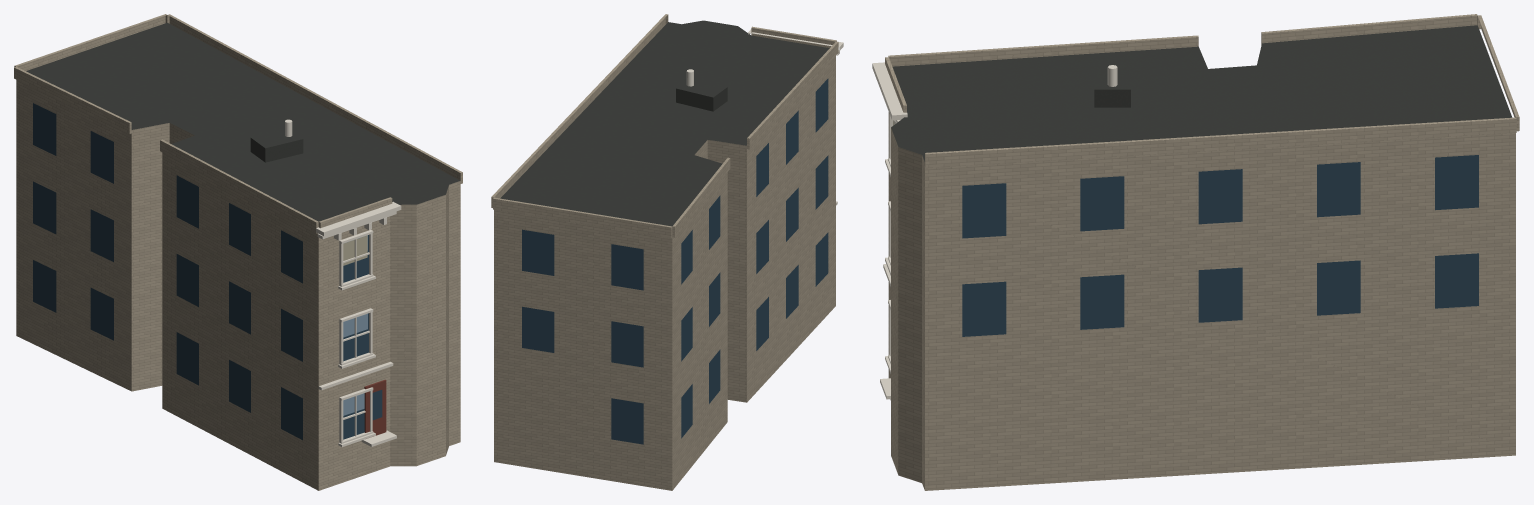
3 views of the same model, side by side, from view 1: azimuth 30°, elevation 25°; view 2: azimuth 150°, elevation 25°; view 3: azimuth 270°, elevation 25° (orthographic). The views are drawn at different scales.
Parts seen in each view (by area): view 1: Footprint 0 / surface 2, Footprint 0 / surface 1, Inset glazing, Facade bay volumes, Cornices and window frames, Storefronts and doors, Sky reflection panels, Inferred rooftop service enclosure / surface 5, Inferred rooftop service enclosure / surface 3, Interior blind variation; view 2: Footprint 0 / surface 2, Footprint 0 / surface 1, Inset glazing, Facade bay volumes, Inferred rooftop service enclosure / surface 6, Inferred rooftop service enclosure / surface 3; view 3: Footprint 0 / surface 2, Footprint 0 / surface 1, Inset glazing, Facade bay volumes, Cornices and window frames, Inferred rooftop service enclosure / surface 3, Inferred rooftop service enclosure / surface 1.
Boxes of the visible parts, bbox=[...] form: Footprint 0 / surface 2: bbox=[16, 80, 460, 490]; Footprint 0 / surface 1: bbox=[26, 22, 460, 221]; Inset glazing: bbox=[33, 103, 382, 440]; Facade bay volumes: bbox=[14, 14, 462, 233]; Cornices and window frames: bbox=[316, 201, 401, 446]; Storefronts and doors: bbox=[364, 379, 386, 436]; Sky reflection panels: bbox=[343, 235, 367, 415]; Inferred rooftop service enclosure / surface 5: bbox=[265, 139, 303, 162]; Inferred rooftop service enclosure / surface 3: bbox=[251, 129, 302, 148]; Interior blind variation: bbox=[343, 235, 367, 265]; Footprint 0 / surface 2: bbox=[494, 56, 835, 490]; Footprint 0 / surface 1: bbox=[500, 20, 829, 226]; Inset glazing: bbox=[522, 78, 828, 444]; Facade bay volumes: bbox=[491, 14, 838, 238]; Inferred rooftop service enclosure / surface 6: bbox=[676, 88, 713, 111]; Inferred rooftop service enclosure / surface 3: bbox=[676, 79, 727, 97]; Footprint 0 / surface 2: bbox=[888, 112, 1515, 490]; Footprint 0 / surface 1: bbox=[891, 25, 1512, 161]; Inset glazing: bbox=[962, 155, 1478, 336]; Facade bay volumes: bbox=[885, 14, 1519, 168]; Cornices and window frames: bbox=[872, 62, 907, 399]; Inferred rooftop service enclosure / surface 3: bbox=[1094, 66, 1130, 89]; Inferred rooftop service enclosure / surface 1: bbox=[1094, 89, 1130, 107].
Bounding box in the file's own units: 10.87 × 13.15 × 21.17.
